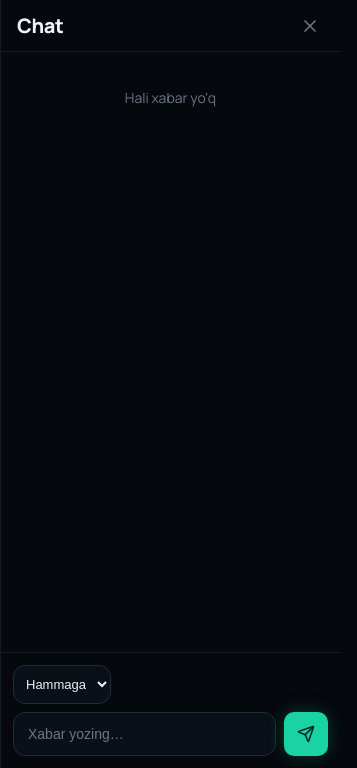
ChatPanel › yuborilmagan xabar maydonda QOLADI va sabab ko‘rsatiladi
Type "Salom" into the field.
click(144, 734); type("Salom")  # box [13,712,276,756]
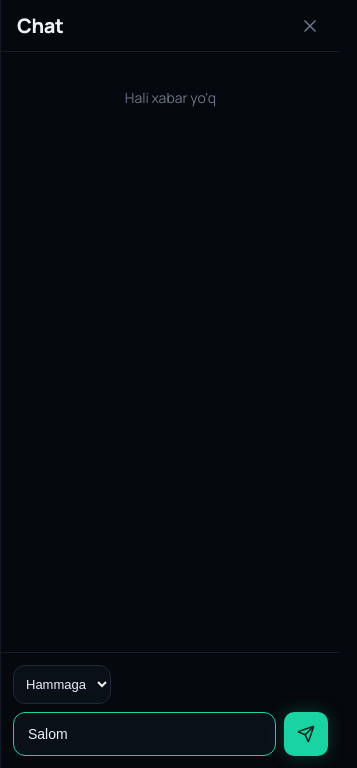
Click the button named "Yuborish".
click(306, 734)  # box [284,712,328,756]
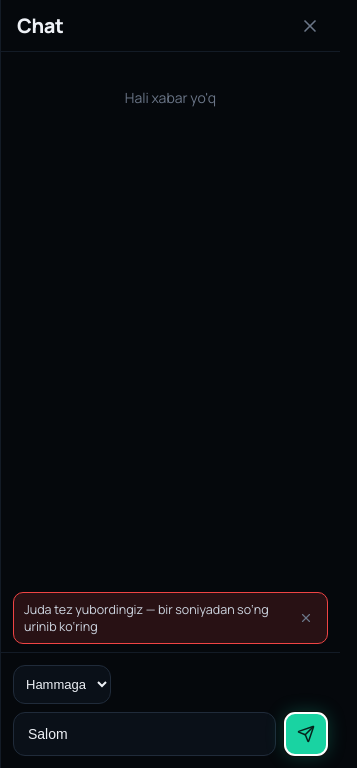
Expected: the message shows "Juda tez", [24,601,269,635]
